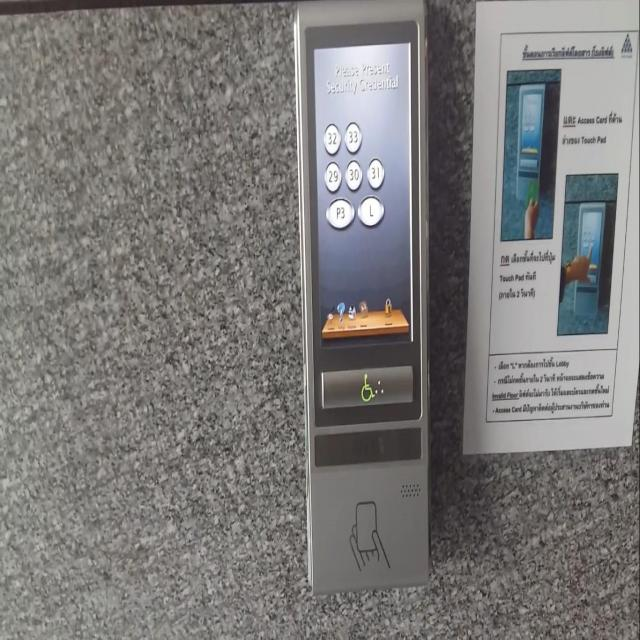29: (323, 158, 342, 192)
30: (344, 156, 363, 193)
31: (366, 154, 386, 191)
32: (323, 122, 340, 154)
33: (343, 119, 362, 153)
CH: (359, 368, 375, 404)
L: (357, 193, 386, 230)
P3: (325, 196, 356, 232)
speaker: (400, 480, 420, 498)
